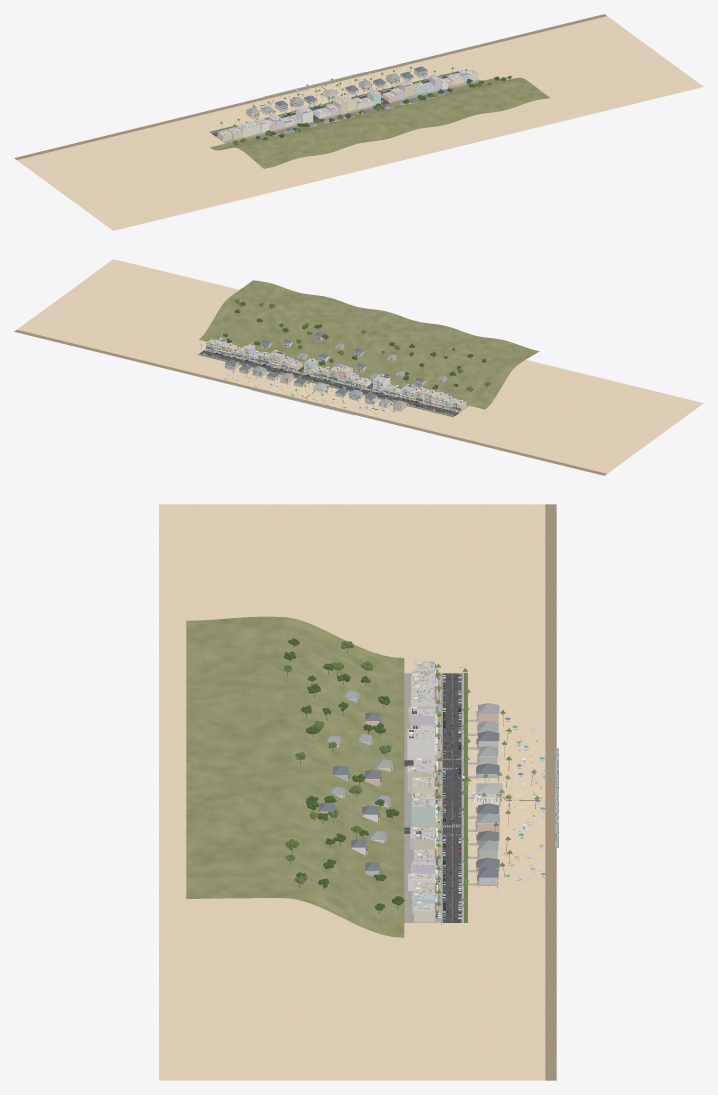
3 renders of one model, top to bottom at view 1: azimuth 30°, elevation 25°; view 2: azimuth 150°, elevation 25°; view 3: azimuth 270°, elevation 25°, orthographic. The views are drawn at different scales.
Parts seen in each view (by area): view 1: G_SandFar, G_Hill, G_EnvTown, G_EnvHouses, G_SandNear, G_EnvStreet, G_EnvTrees; view 2: G_SandFar, G_Hill, G_EnvTown, G_EnvHouses, G_EnvStreet, G_SandNear, G_EnvTrees, G_EnvProps; view 3: G_SandFar, G_Hill, G_EnvStreet, G_EnvTown, G_SandNear, G_EnvHouses, G_EnvTrees, G_EnvProps.
Boxes of the visible parts, x1,y1,x2,y2 form: G_SandFar: [14, 14, 703, 230]; G_Hill: [210, 77, 550, 168]; G_EnvTown: [217, 69, 478, 141]; G_EnvHouses: [246, 66, 449, 136]; G_SandNear: [264, 71, 387, 112]; G_EnvStreet: [209, 69, 479, 143]; G_EnvTrees: [220, 66, 511, 146]; G_SandFar: [14, 259, 703, 475]; G_Hill: [199, 280, 539, 409]; G_EnvTown: [206, 338, 466, 411]; G_EnvHouses: [225, 332, 447, 411]; G_EnvStreet: [197, 349, 468, 417]; G_SandNear: [252, 375, 368, 415]; G_EnvTrees: [210, 299, 490, 413]; G_EnvProps: [201, 344, 456, 415]; G_SandFar: [159, 504, 556, 1080]; G_Hill: [186, 616, 404, 937]; G_EnvStreet: [404, 673, 479, 922]; G_EnvTown: [407, 661, 437, 922]; G_SandNear: [468, 748, 558, 847]; G_EnvHouses: [319, 690, 499, 888]; G_EnvTrees: [283, 638, 512, 914]; G_EnvProps: [436, 667, 464, 925].
Size of what is drawn, in the model's own units: 914 by 39.35 by 268.
20 materials, 19 textured.
